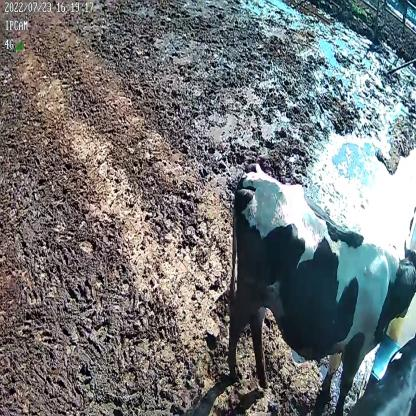cow: (225, 162, 416, 411)
